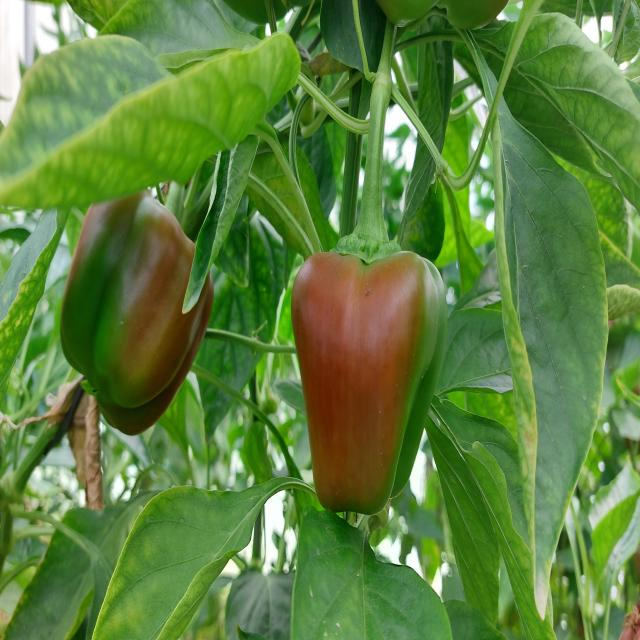BrownishRed--Can-be-Harvested: (296, 258, 444, 514), (73, 184, 205, 435)
